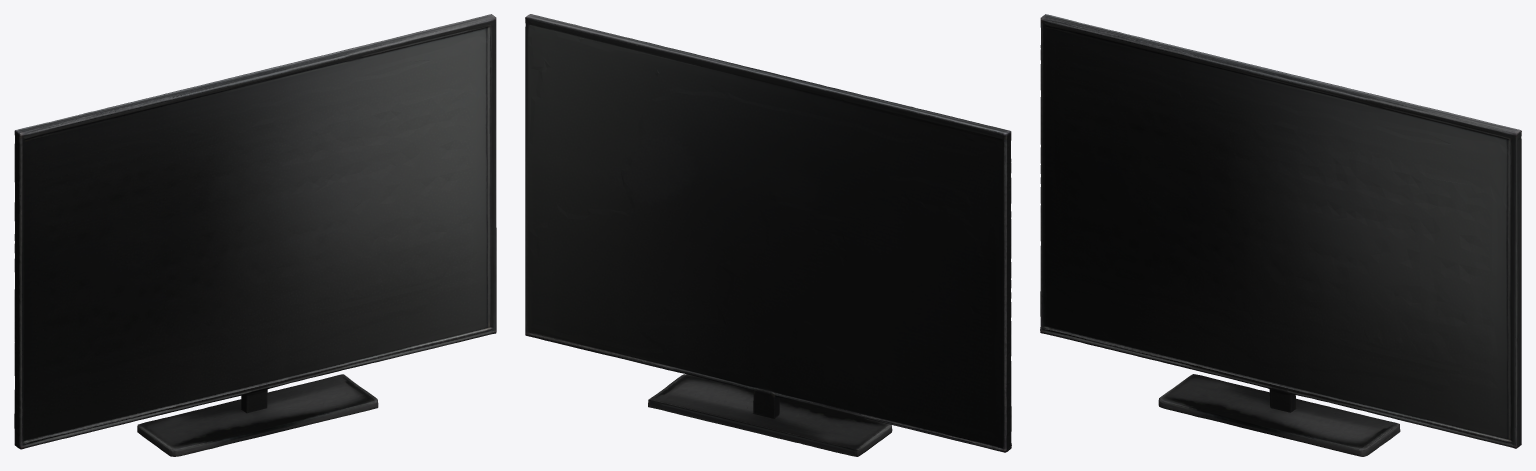
3 views of the same model, side by side, from view 1: azimuth 30°, elevation 25°; view 2: azimuth 150°, elevation 25°; view 3: azimuth 330°, elevation 25° (orthographic).
Parts seen in each view (by area): view 1: world; view 2: world; view 3: world.
Boxes of the visible parts, x1,y1,x2,y2 form: world: (14,14,496,456); world: (525,14,1011,456); world: (1040,14,1521,456).
Bounding box in the file's own units: 1 × 0.6912 × 0.1331.
1 material, 1 textured.
